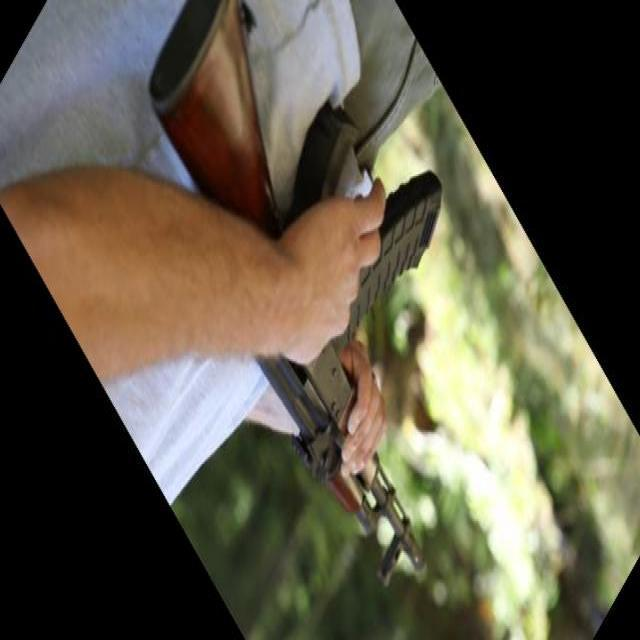weapon: (146, 0, 442, 588)
